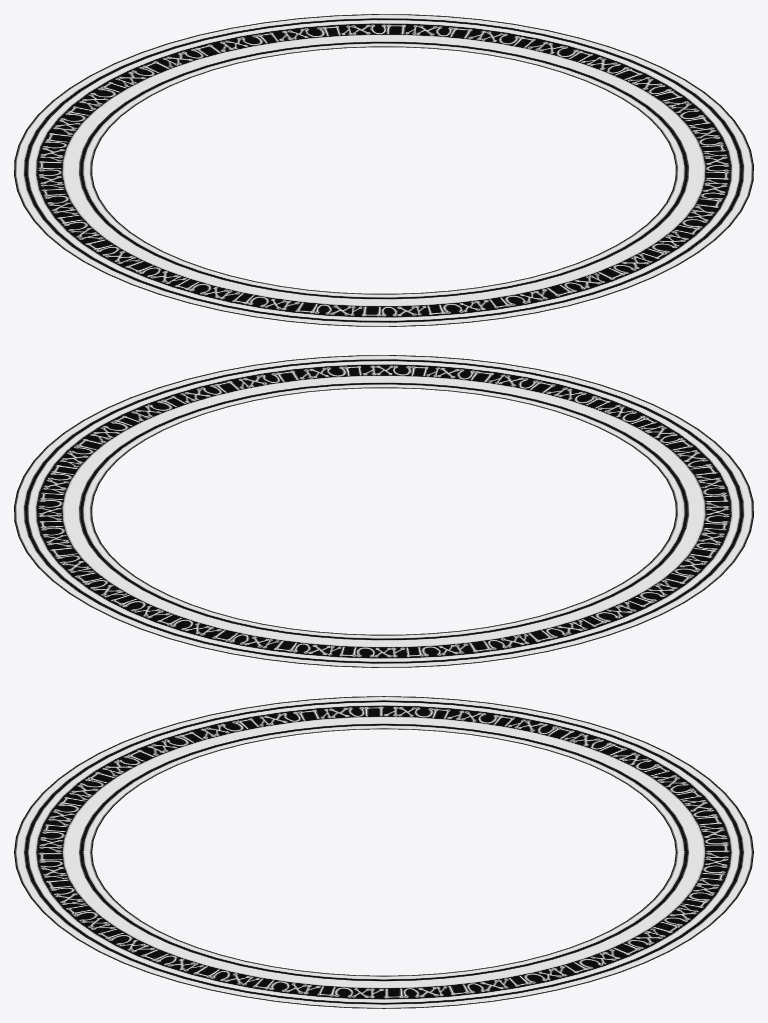
The model's file is DashRing.fbx.
3 views of the same model, one above another, from view 1: azimuth 30°, elevation 25°; view 2: azimuth 150°, elevation 25°; view 3: azimuth 270°, elevation 25° (orthographic).
Parts seen in each view (by area): view 1: Boss_ring_01; view 2: Boss_ring_01; view 3: Boss_ring_01.
Boxes of the visible parts, <box> form: Boss_ring_01: <box>14,14,753,326</box>; Boss_ring_01: <box>14,355,753,667</box>; Boss_ring_01: <box>14,696,753,1008</box>.
Bounding box in the file's own units: 69.54 × 1.54e-14 × 69.54.
